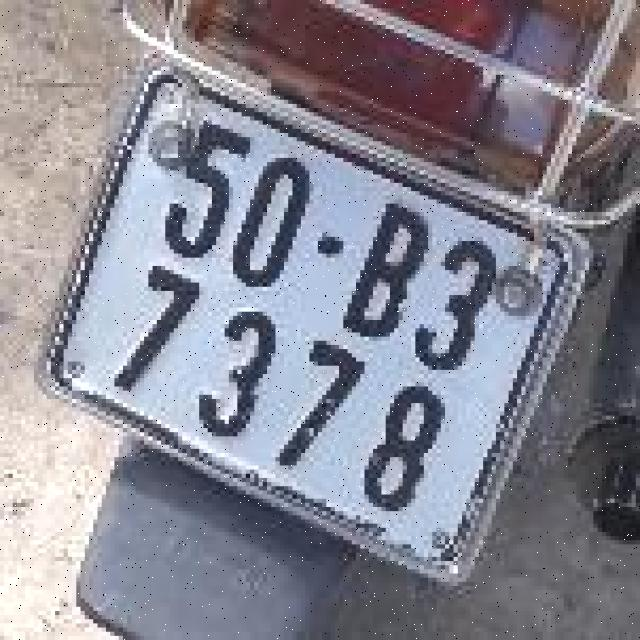0: (220, 147, 330, 304)
3: (400, 225, 514, 391), (175, 295, 293, 454)
5: (149, 105, 266, 270)
7: (261, 330, 375, 493), (99, 259, 210, 408)
8: (346, 376, 459, 533)
B: (329, 190, 441, 353)
